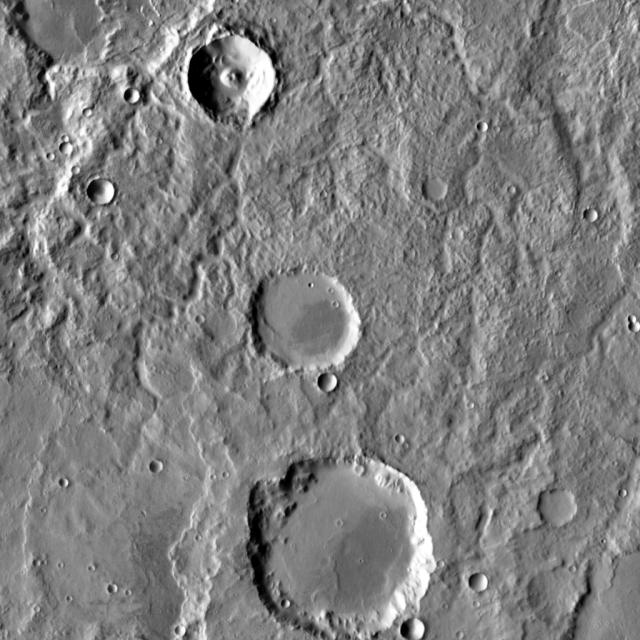crater: (249, 452, 442, 640), (252, 265, 363, 374), (193, 37, 278, 121), (532, 572, 584, 624), (539, 488, 582, 529), (207, 306, 242, 342), (92, 177, 120, 205), (426, 176, 452, 202), (406, 619, 428, 640), (473, 574, 495, 594), (322, 373, 342, 393), (588, 207, 604, 222), (130, 88, 145, 104), (156, 461, 168, 474), (66, 143, 78, 155), (180, 627, 192, 639), (112, 583, 124, 594), (482, 121, 492, 132), (64, 479, 74, 489), (401, 434, 411, 444), (201, 316, 211, 326), (625, 314, 633, 326), (286, 600, 296, 609), (623, 489, 633, 498), (88, 109, 97, 118), (51, 154, 59, 162), (472, 402, 480, 410), (344, 94, 352, 102), (565, 559, 573, 567), (441, 560, 449, 568), (506, 179, 514, 186), (60, 128, 68, 135), (77, 167, 85, 174), (86, 558, 93, 566), (626, 308, 633, 316), (460, 632, 467, 640), (470, 596, 478, 602), (31, 600, 38, 606), (32, 554, 38, 560), (492, 120, 498, 126), (318, 186, 324, 192)
